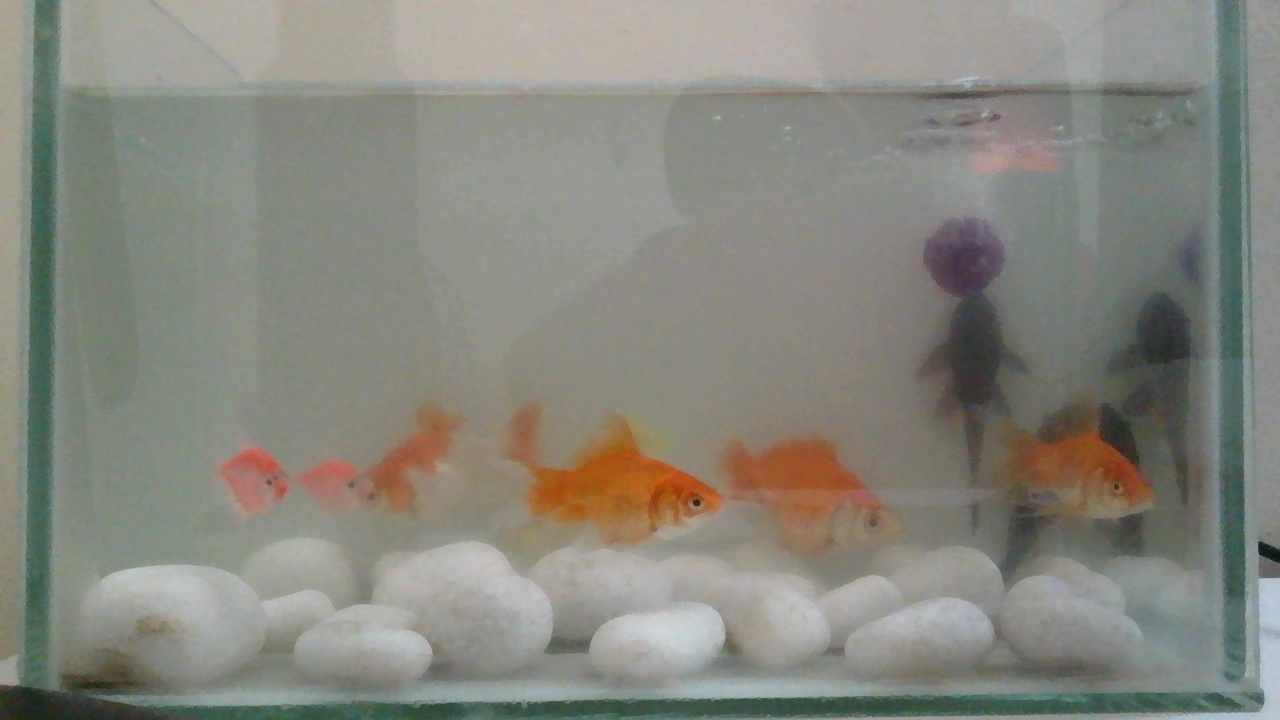fish: (530, 407, 723, 538), (212, 437, 289, 529)
